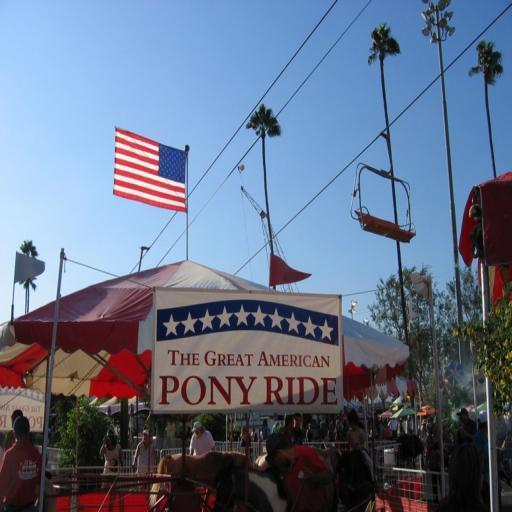horse: (148, 450, 252, 512), (214, 459, 290, 511), (250, 445, 344, 473)
